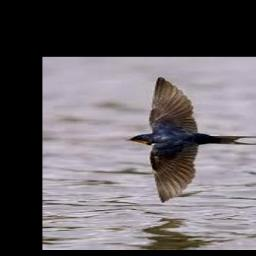Swallow: (127, 77, 256, 203)
